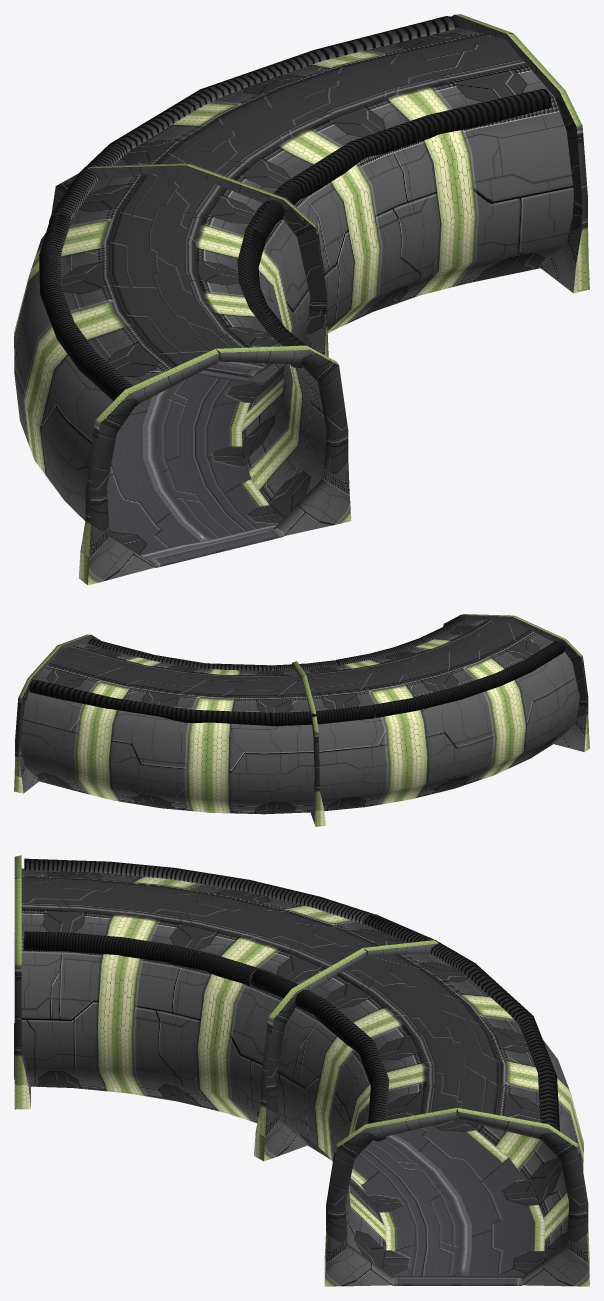
File: Tunnel curve 01.fbx
3 renders of one model, top to bottom at view 1: azimuth 30°, elevation 25°; view 2: azimuth 150°, elevation 25°; view 3: azimuth 270°, elevation 25°, orthographic. The views are drawn at different scales.
Parts seen in each view (by area): view 1: Tunnel curve 01; view 2: Tunnel curve 01; view 3: Tunnel curve 01.
Boxes of the visible parts, x1=… form: Tunnel curve 01: x1=14, y1=14, x2=589, y2=585; Tunnel curve 01: x1=14, y1=614, x2=589, y2=826; Tunnel curve 01: x1=14, y1=855, x2=589, y2=1286.
Bounding box in the file's own units: 1003 × 284 × 843.
